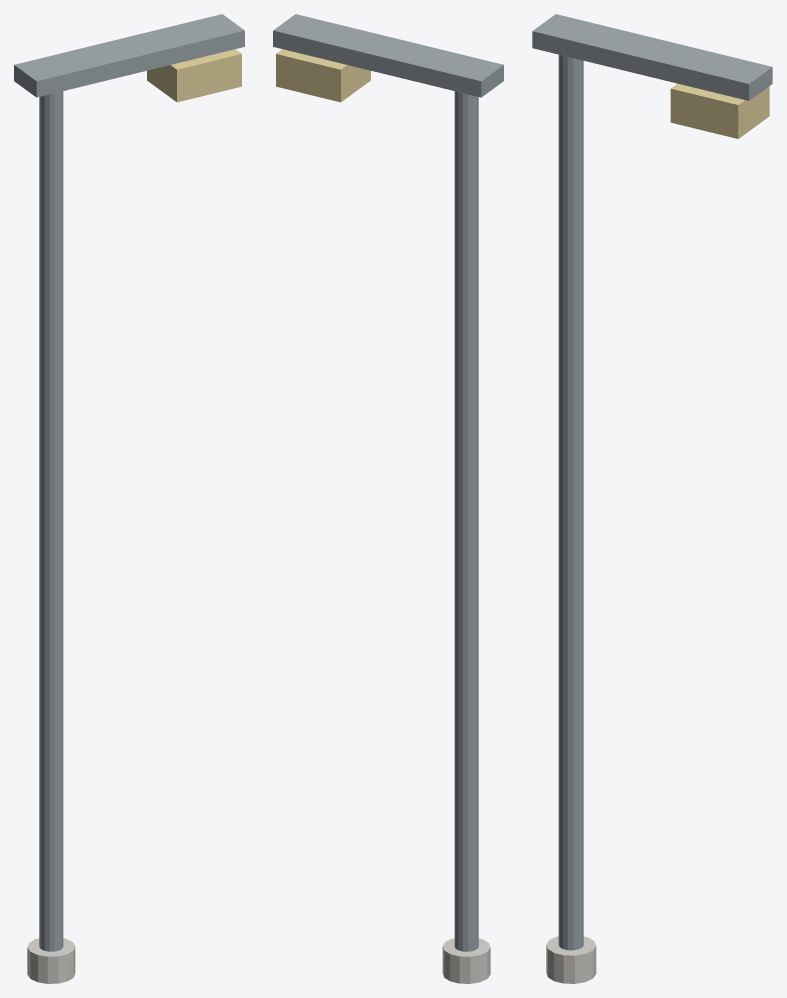
Rendered from streetlight.glb.
3 views of the same model, side by side, from view 1: azimuth 30°, elevation 25°; view 2: azimuth 150°, elevation 25°; view 3: azimuth 330°, elevation 25° (orthographic). The views are drawn at different scales.
Parts seen in each view (by area): view 1: p001, p002, p003, p000; view 2: p001, p002, p003, p000; view 3: p001, p002, p003, p000.
Boxes of the visible parts, box(x1,y1,x2,y2) form: p001: box(39, 91, 63, 951); p002: box(14, 14, 244, 97); p003: box(147, 49, 241, 102); p000: box(27, 938, 75, 983); p001: box(454, 91, 478, 951); p002: box(273, 14, 503, 97); p003: box(276, 49, 370, 102); p000: box(442, 938, 490, 983); p001: box(558, 54, 583, 950); p002: box(532, 14, 772, 100); p003: box(670, 83, 769, 138); p000: box(546, 936, 596, 983).
Bounding box in the file's own units: 0.8 × 3.33 × 0.2.
